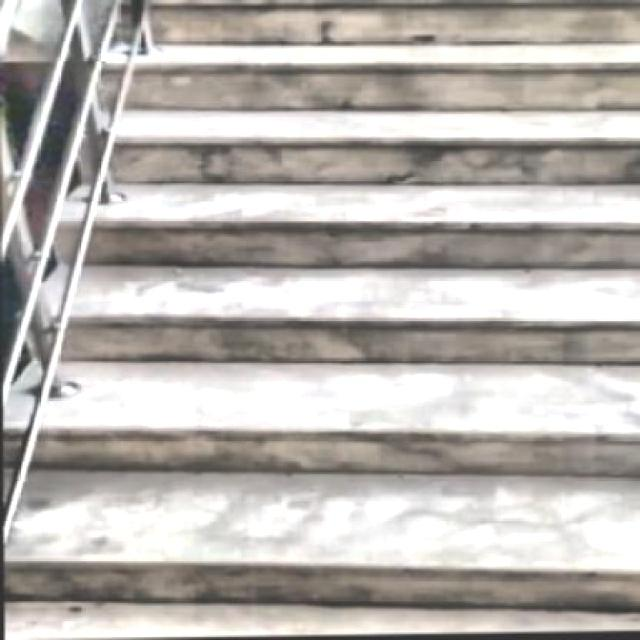stair: (10, 0, 638, 638)
